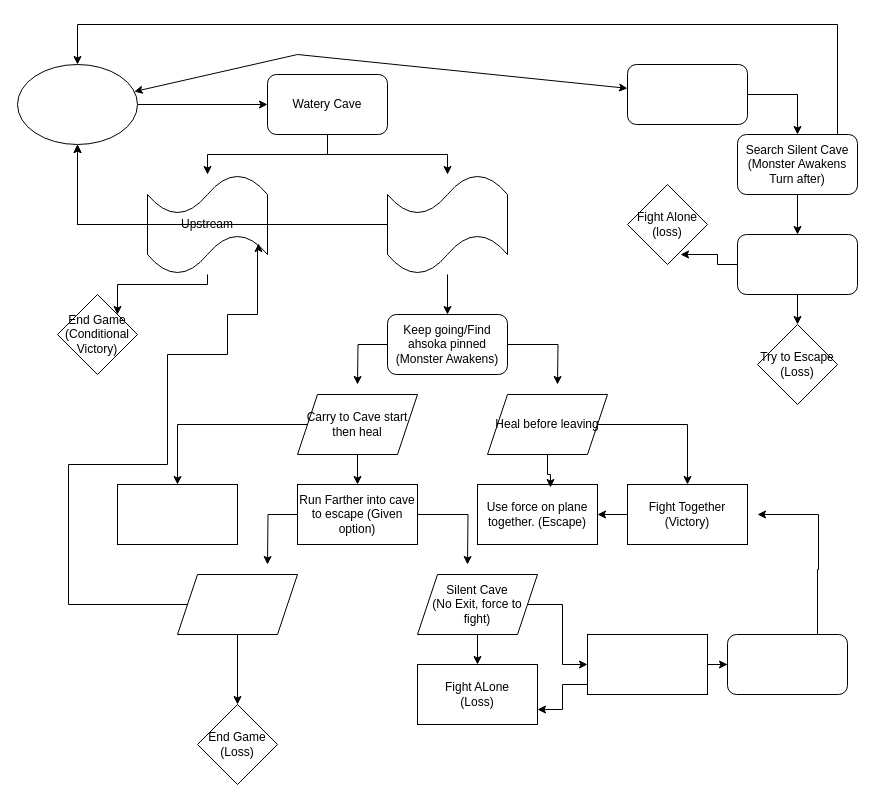
Some shapes in this 875 by 802 pixel diagram are drawn without their labels. The shapes that lost their labels are listed below. From the top down, each one's centre as x and y in pixels, then its label:
At pixel 77 104: "Cave Start".
At pixel 687 94: "Silent Cave".
At pixel 447 224: "Downstream".
At pixel 797 264: "Stay in Silent cave (Monster Awakens), Trapping you in)".
At pixel 177 514: "Fight Alone(Loss)".
At pixel 237 604: "Watery Cave (Upstream exit)".
At pixel 647 664: "Hide".
At pixel 787 664: "Heal Ahsoka".
